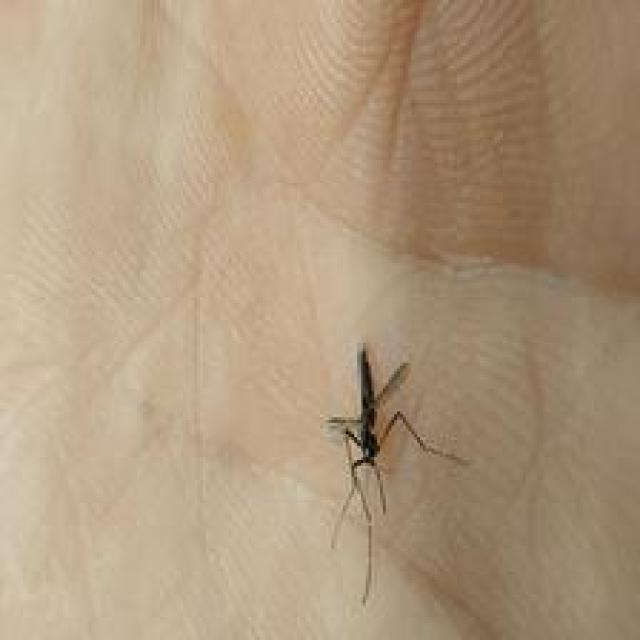Aedes albopictus: (323, 342, 468, 604)
